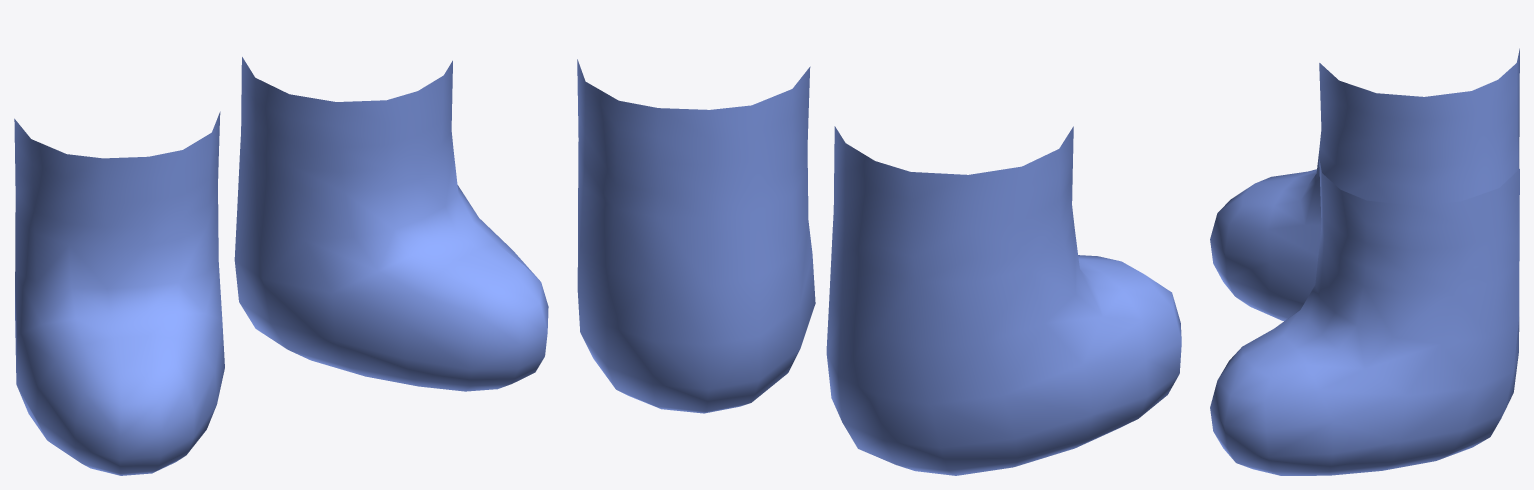
Rendered from Legs1.glb.
The picture shows the model from 3 angles, left to right: view 1: azimuth 30°, elevation 25°; view 2: azimuth 150°, elevation 25°; view 3: azimuth 270°, elevation 25°; orthographic projection. The views are drawn at different scales.
Parts seen in each view (by area): view 1: Legs1; view 2: Legs1; view 3: Legs1.
Part boxes in pixels (box(x1,y1,x2,y2)): Legs1: box(14, 57, 548, 475); Legs1: box(577, 59, 1181, 475); Legs1: box(1210, 48, 1519, 475).
Bounding box in the file's own units: 159 × 91.01 × 92.05.
